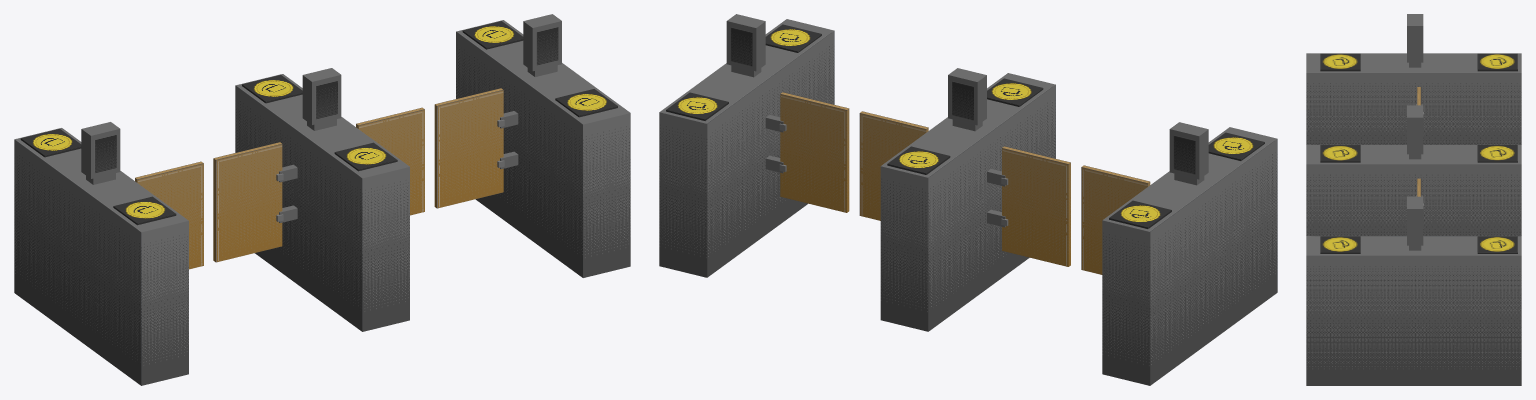
Rendered from gate.fbx.
3 views of the same model, side by side, from view 1: azimuth 30°, elevation 25°; view 2: azimuth 150°, elevation 25°; view 3: azimuth 270°, elevation 25° (orthographic). The views are drawn at different scales.
Visible parts, largest first — view 1: Cube.015, Cube.011, Cube.003, Cube.008, Cube.013, Cube.004, Cube.012; view 2: Cube.015, Cube.003, Cube.011, Cube.013, Cube.008, Cube.012, Cube.004; view 3: Cube.003, Cube.011, Cube.015.
Part boxes in pixels (x1,y1,x2,y2): Cube.015: (14, 122, 188, 385); Cube.011: (235, 68, 409, 331); Cube.003: (456, 14, 630, 277); Cube.008: (213, 142, 297, 262); Cube.013: (434, 88, 518, 208); Cube.004: (135, 161, 203, 269); Cube.012: (356, 107, 424, 215); Cube.015: (1102, 122, 1277, 385); Cube.003: (659, 14, 834, 277); Cube.011: (880, 68, 1055, 331); Cube.013: (765, 92, 849, 212); Cube.008: (987, 146, 1070, 266); Cube.012: (859, 111, 928, 220); Cube.004: (1081, 165, 1150, 274); Cube.003: (1306, 196, 1521, 385); Cube.011: (1306, 105, 1521, 235); Cube.015: (1306, 14, 1521, 144).
Bounding box in the file's own units: 308 × 123 × 138.
